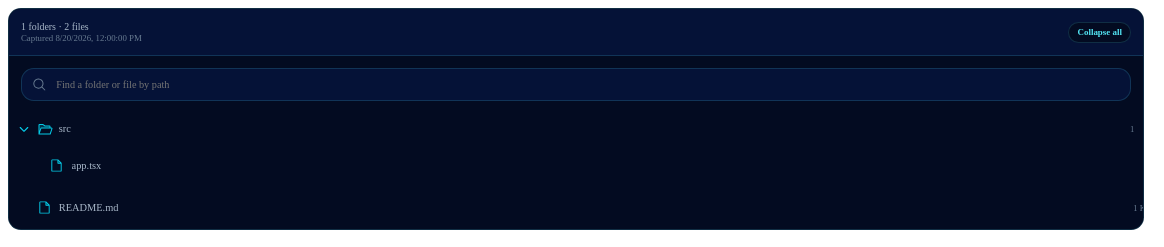
Scenario: WorkspaceTree › filters the complete captured tree by path
This screenshot has width=1164, height=247.
Type "src/app" into the search field named "filter workspace structure" at (587, 84), box [54, 78, 1120, 91]
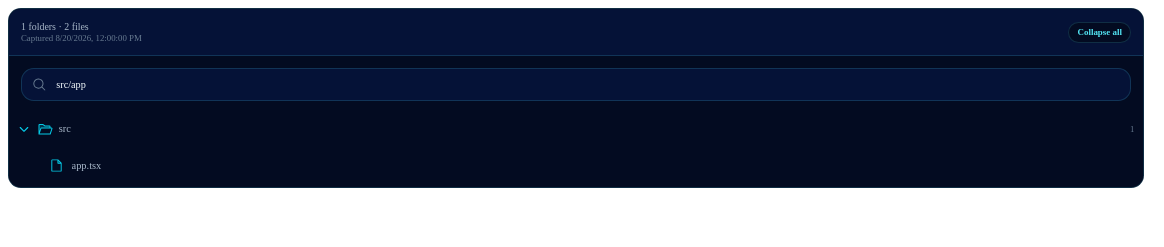
Check: the text "src" is shown, box [59, 123, 71, 134]
Check: the text "README.md" is gone
